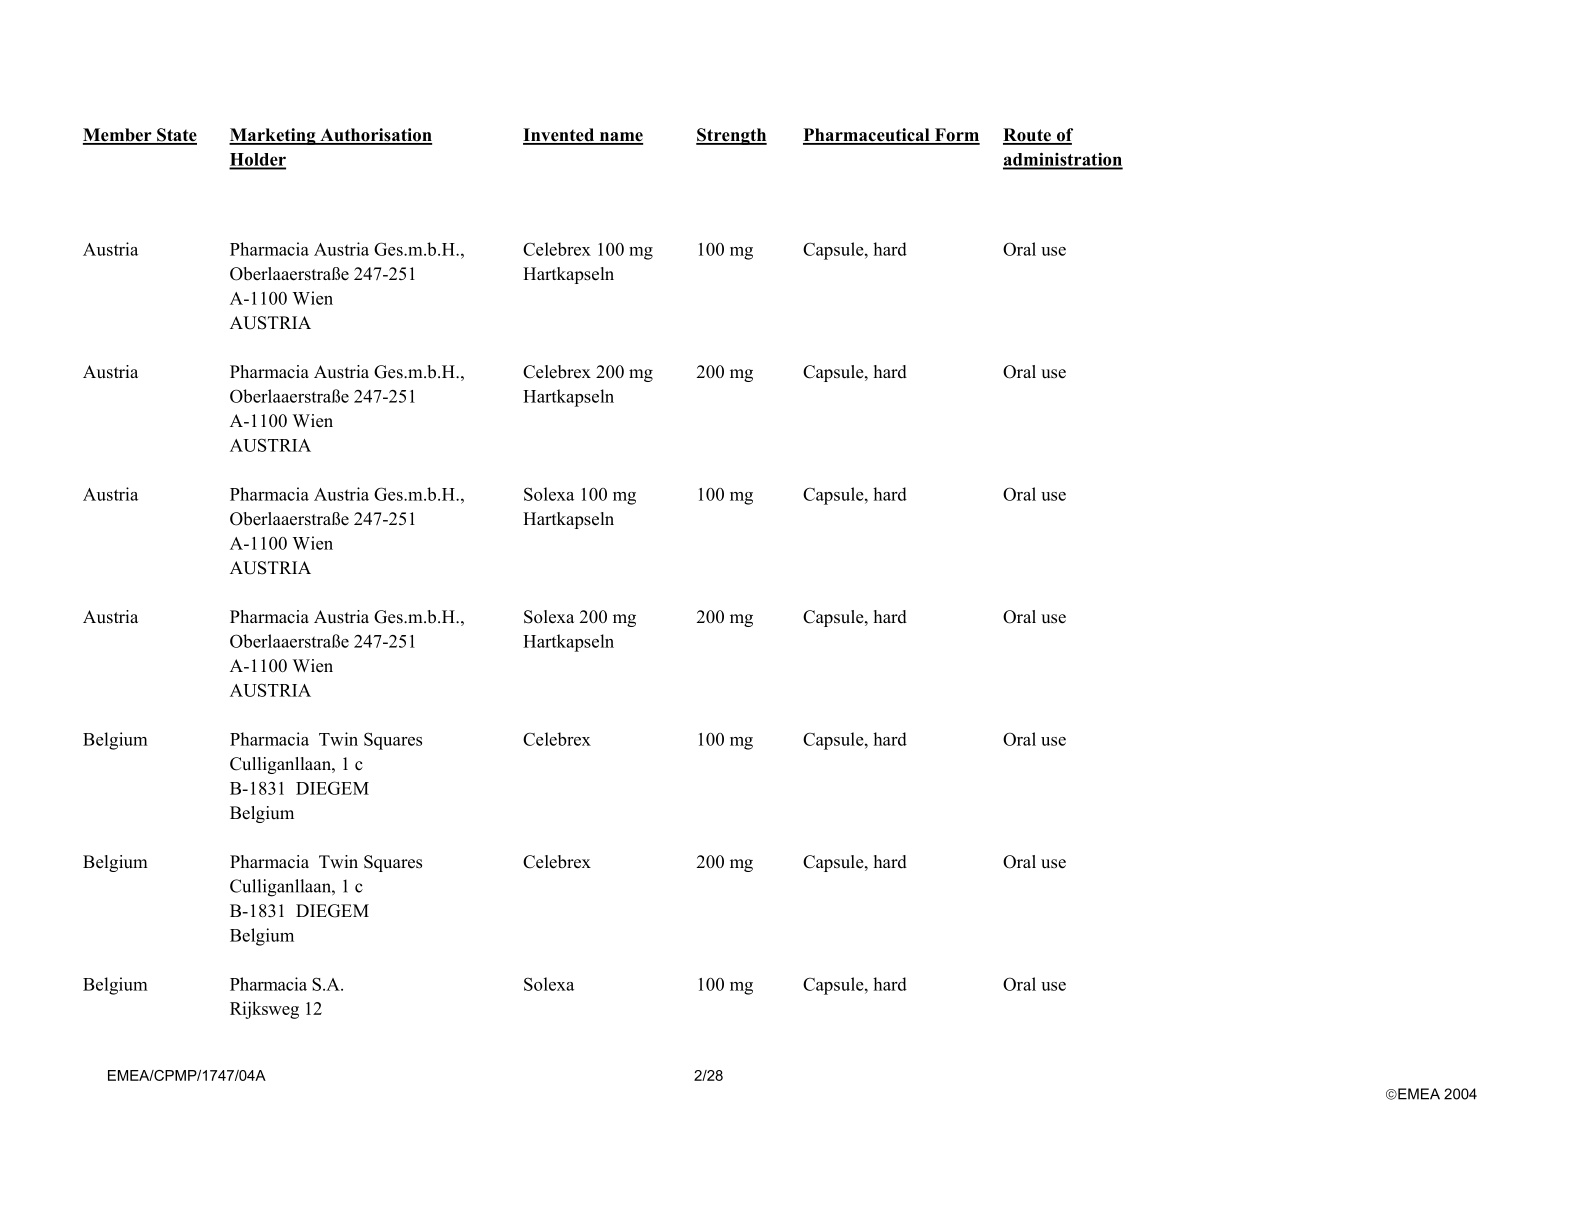nolines: (81, 126, 1125, 1020)
